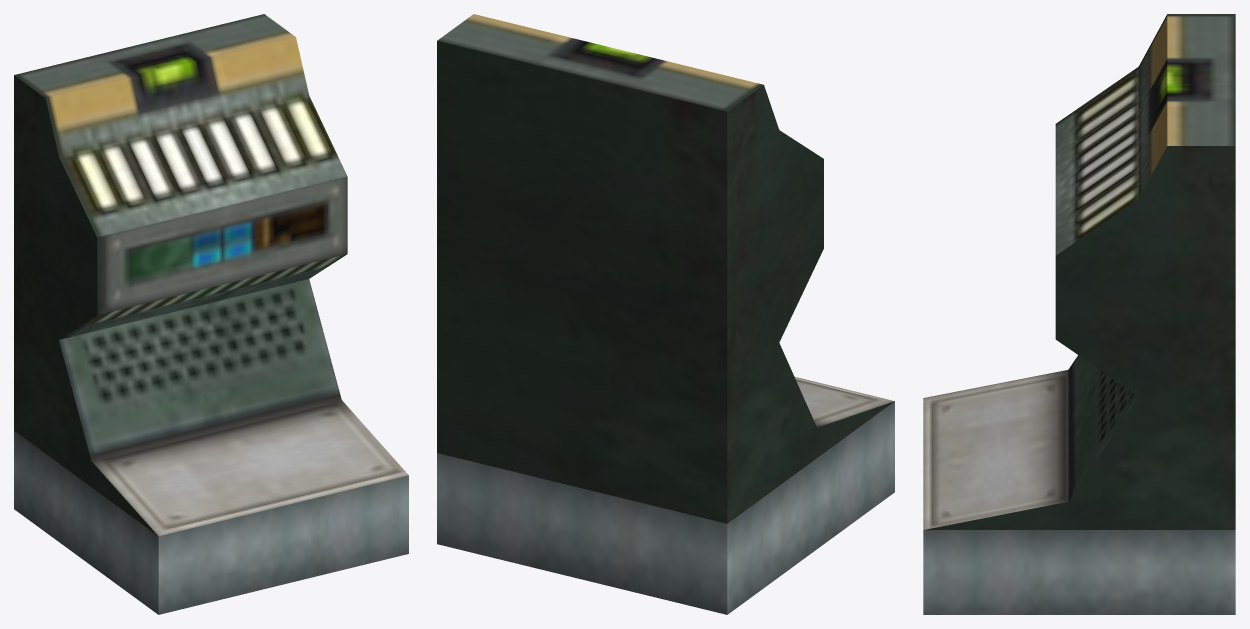
Rendered from ind_wall.obj.
The picture shows the model from 3 angles, left to right: view 1: azimuth 30°, elevation 25°; view 2: azimuth 150°, elevation 25°; view 3: azimuth 270°, elevation 25°; orthographic projection. The views are drawn at different scales.
Parts seen in each view (by area): view 1: wall_fh; view 2: wall_fh; view 3: wall_fh.
Part boxes in pixels (left/top/right/bottom): wall_fh: left=14, top=14, right=408, bottom=614; wall_fh: left=437, top=14, right=894, bottom=614; wall_fh: left=923, top=14, right=1235, bottom=614.
Bounding box in the file's own units: 1 × 1.66 × 1.
1 material, 1 textured.
